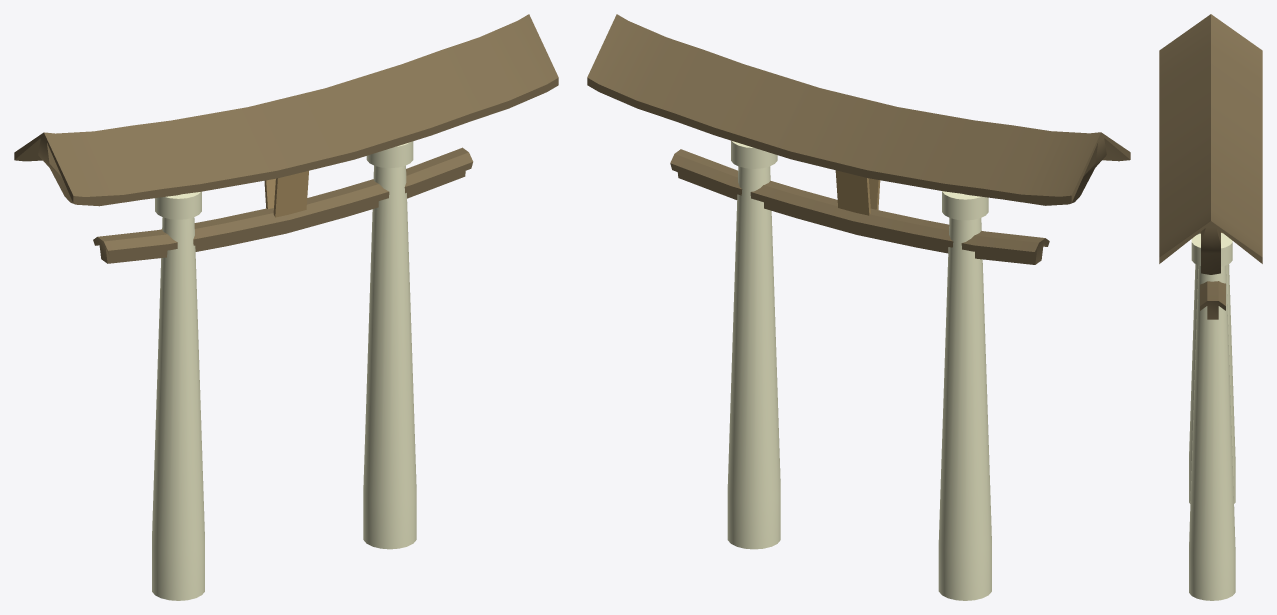
The model's file is JapaneseArchway2.fbx.
The picture shows the model from 3 angles, left to right: view 1: azimuth 30°, elevation 25°; view 2: azimuth 150°, elevation 25°; view 3: azimuth 270°, elevation 25°; orthographic projection. The views are drawn at different scales.
Visible parts, largest first — view 1: Archway 2; view 2: Archway 2; view 3: Archway 2.
Boxes of the visible parts, x1,y1,x2,y2 form: Archway 2: (14, 14, 558, 600); Archway 2: (587, 14, 1130, 600); Archway 2: (1159, 14, 1262, 600).
Size of the model in its own units: 495 by 478 by 105.
